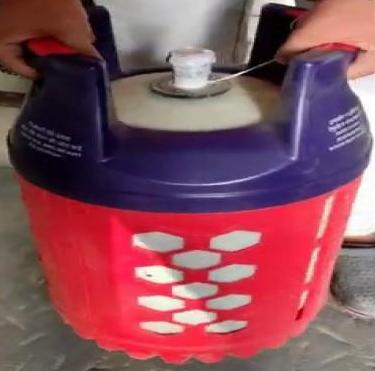cylinder: (1, 0, 375, 371)
